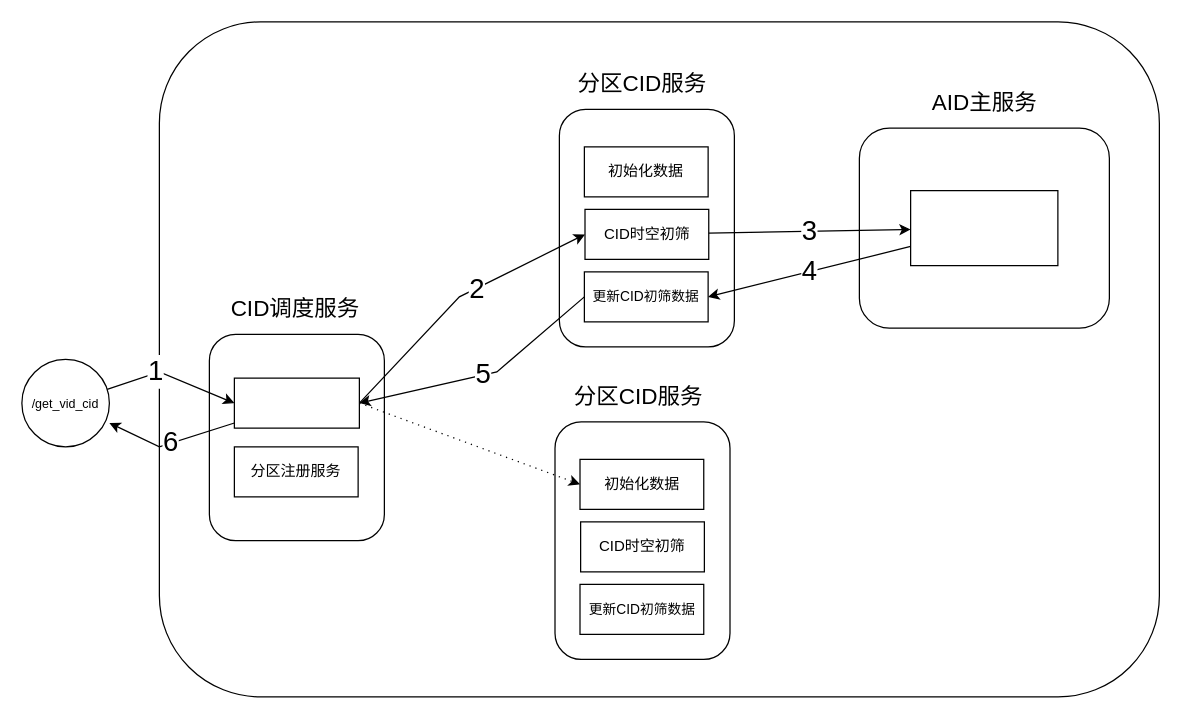
This 1181x719 diagram has some shape labels left out. The centre of each missing label's shape, as x and y in pixels:
"CID调度" goes at [296,402].
"全局筛选" goes at [983,227].
